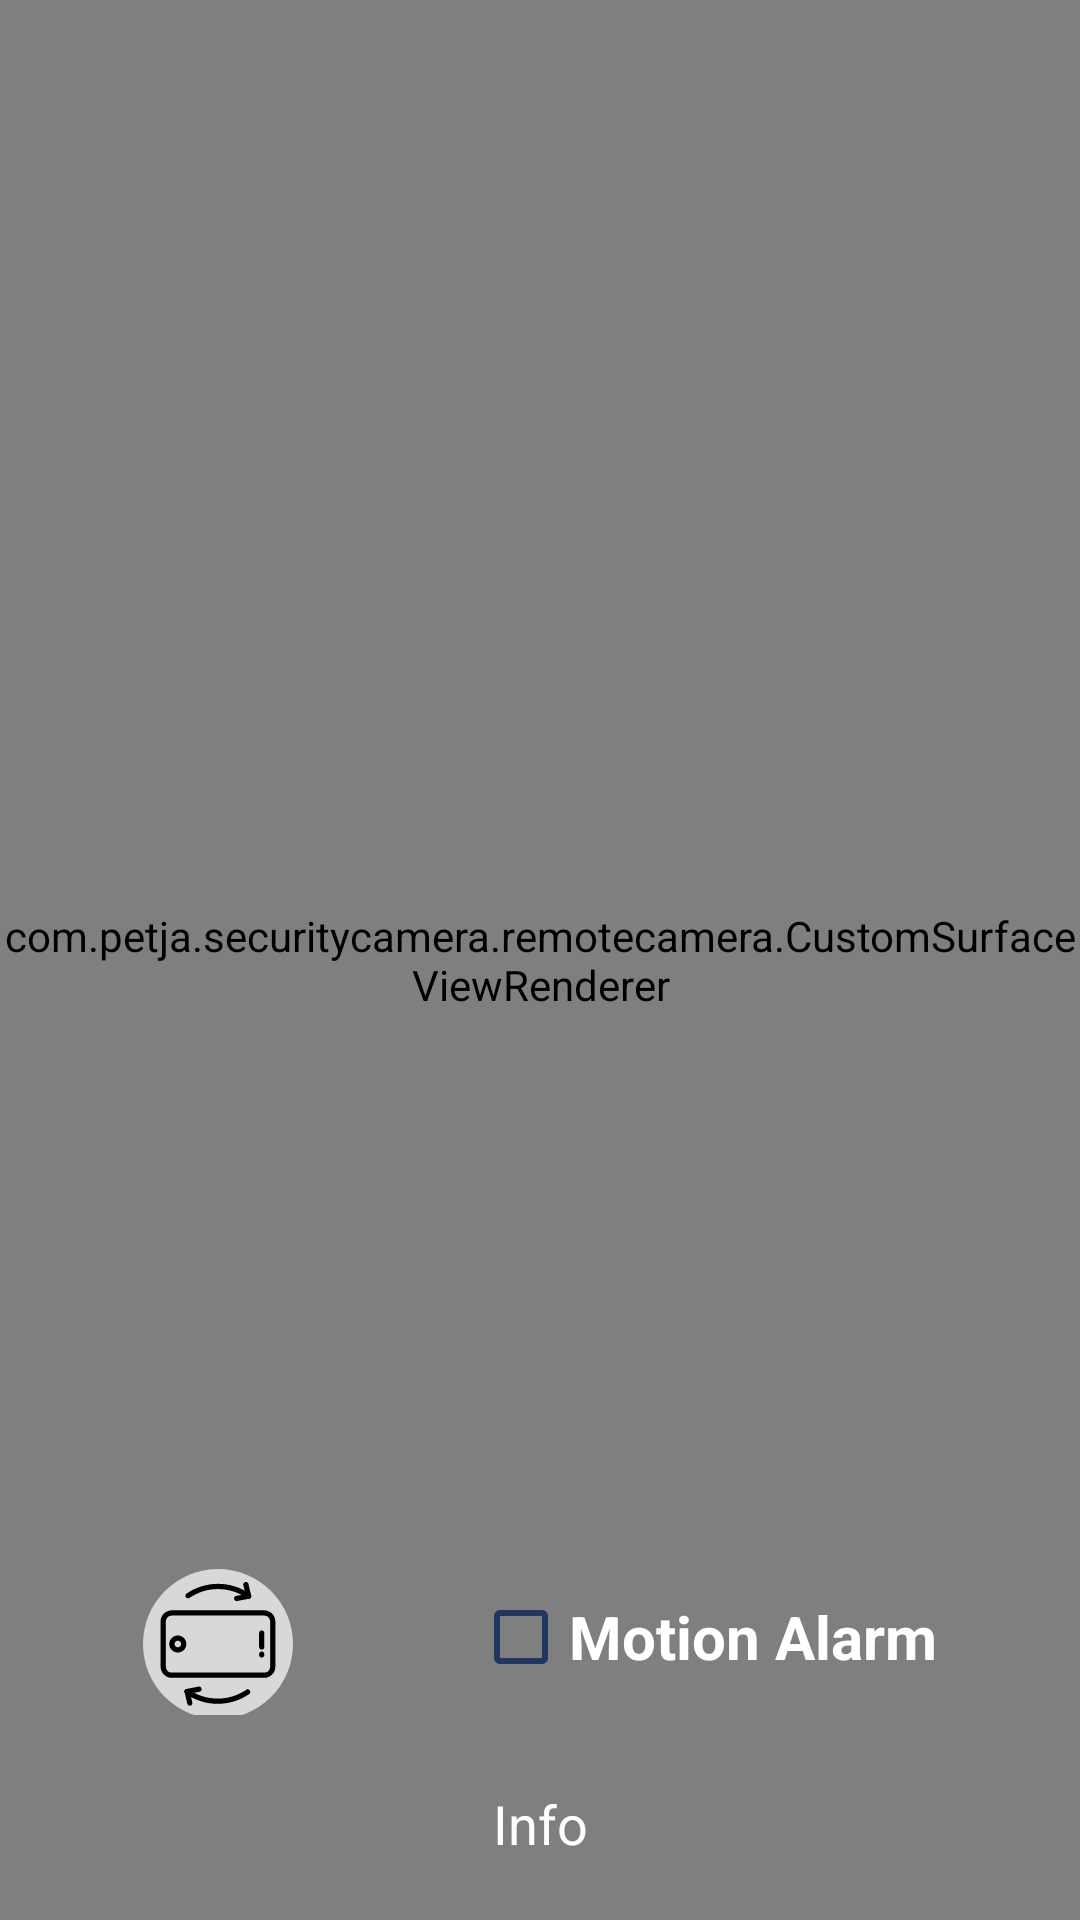

Icon click points for this 1080 × 1920 phone screenshot, format (x=x, y=y):
rotate: (x=218, y=1642)
